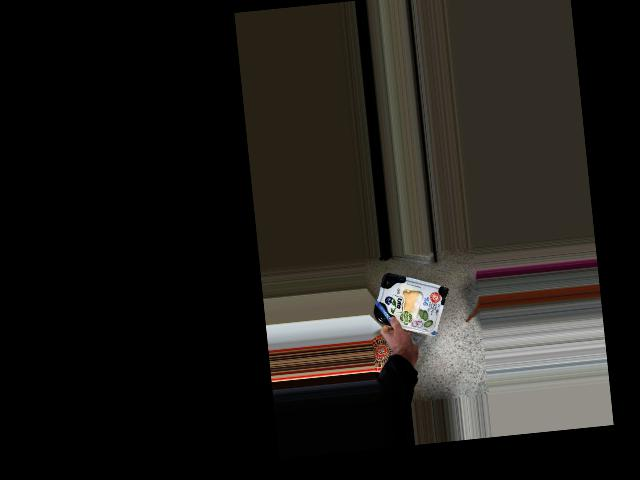cheese: (378, 276, 444, 333)
